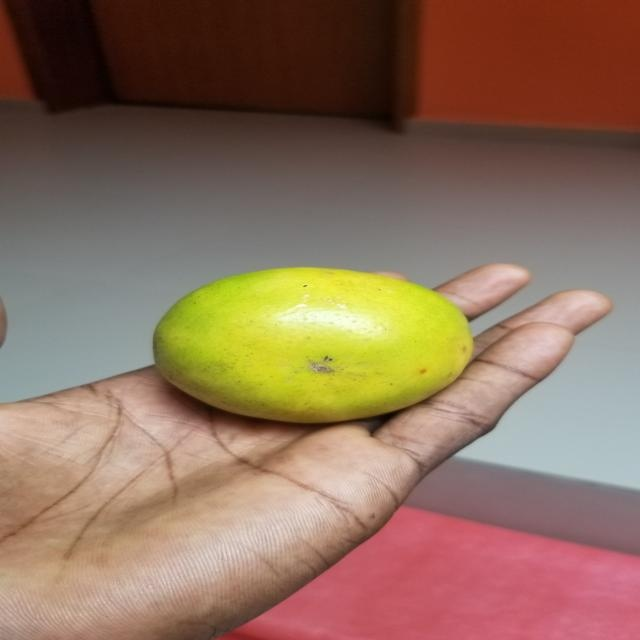agrume: (150, 261, 470, 423)
